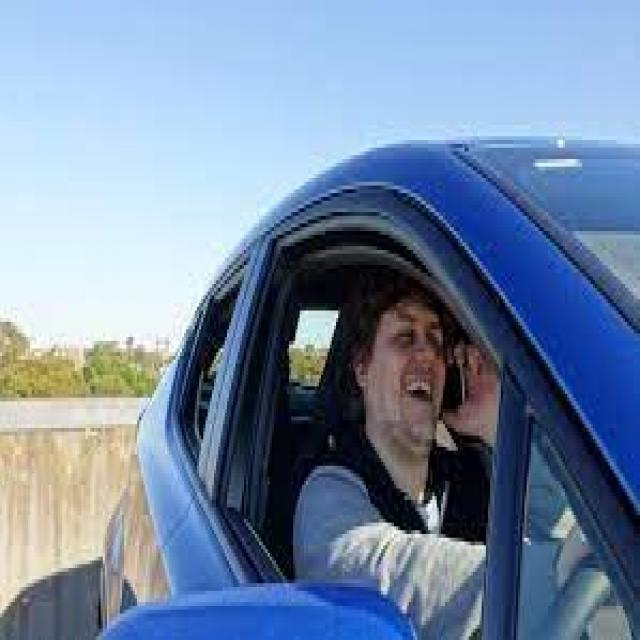Cellphone_calling: (404, 307, 492, 466)
